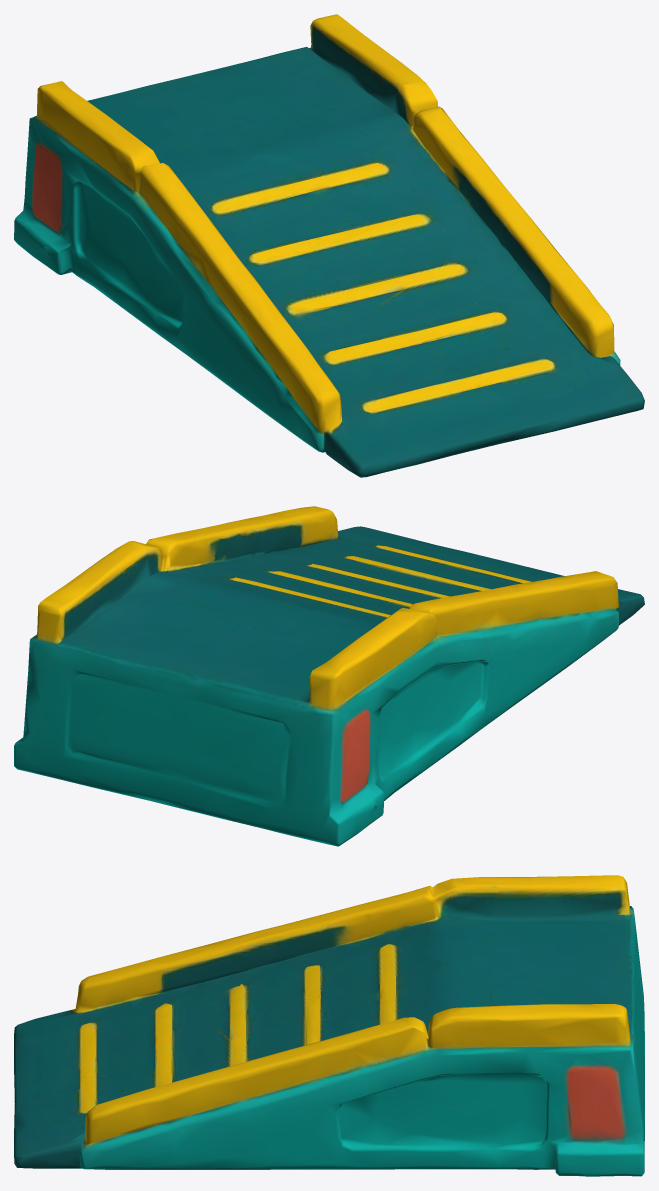
Rendered from factory-loading-ramp.glb.
3 views of the same model, one above another, from view 1: azimuth 30°, elevation 25°; view 2: azimuth 150°, elevation 25°; view 3: azimuth 270°, elevation 25° (orthographic). The views are drawn at different scales.
Parts seen in each view (by area): view 1: factory-loading-ramp; view 2: factory-loading-ramp; view 3: factory-loading-ramp.
Part boxes in pixels (x1,y1,x2,y2): factory-loading-ramp: [14, 14, 644, 477]; factory-loading-ramp: [14, 506, 644, 846]; factory-loading-ramp: [14, 875, 644, 1176].
Bounding box in the file's own units: 2.22 × 1.06 × 3.8.
Materials: 1 (1 with a texture image).
